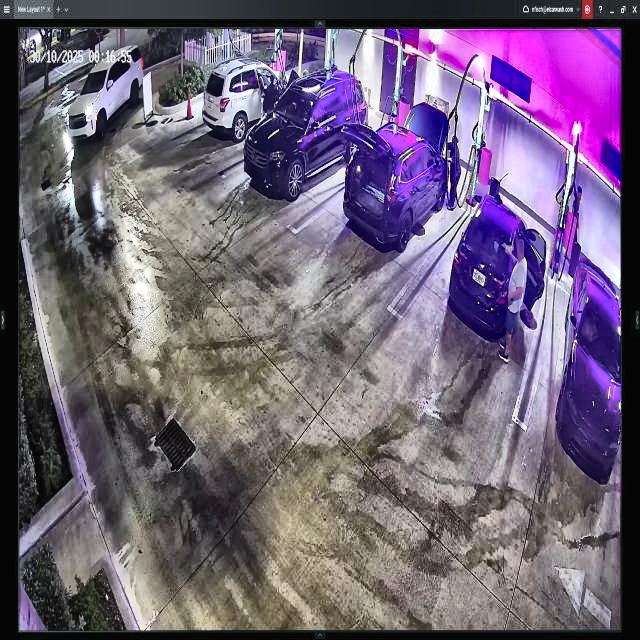Car: (244, 70, 368, 194), (346, 104, 448, 254), (449, 192, 547, 342)
